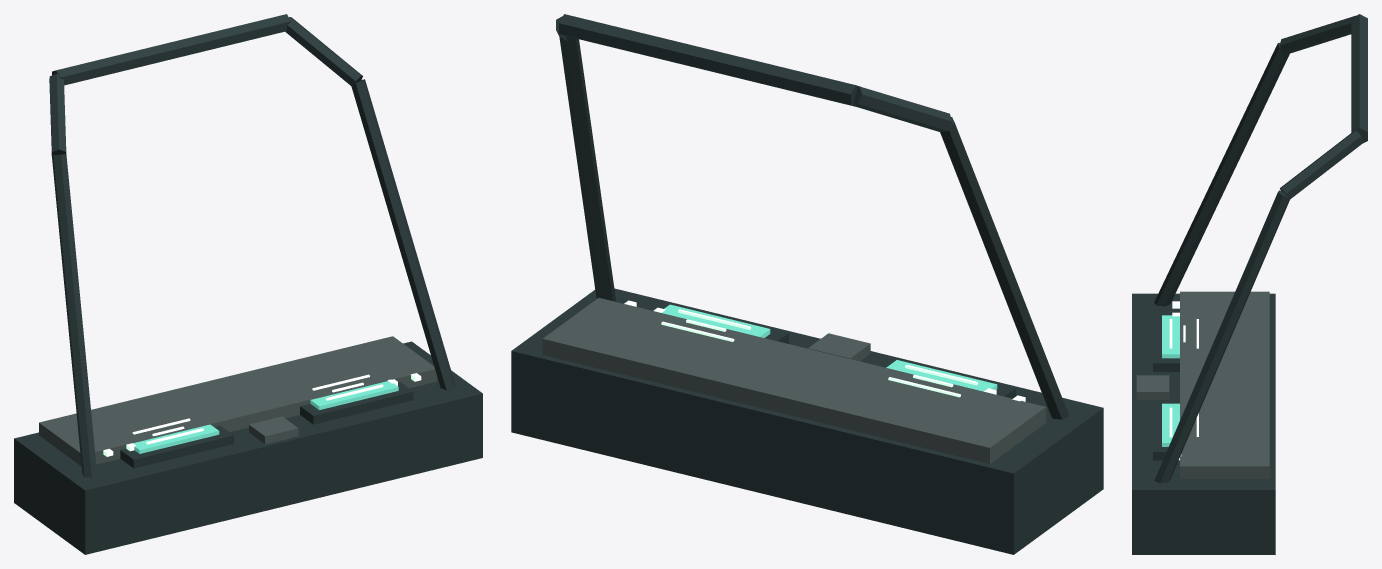
Rendered from cockpit.glb.
3 renders of one model, left to right at view 1: azimuth 30°, elevation 25°; view 2: azimuth 150°, elevation 25°; view 3: azimuth 270°, elevation 25°, orthographic. The views are drawn at different scales.
Parts seen in each view (by area): view 1: Pilot_Cockpit; view 2: Pilot_Cockpit; view 3: Pilot_Cockpit.
Boxes of the visible parts, bbox=[...] form: Pilot_Cockpit: bbox=[14, 14, 482, 554]; Pilot_Cockpit: bbox=[511, 14, 1103, 554]; Pilot_Cockpit: bbox=[1132, 14, 1367, 554].
Size of the model in its own units: 1.55 by 1.42 by 0.7877.
